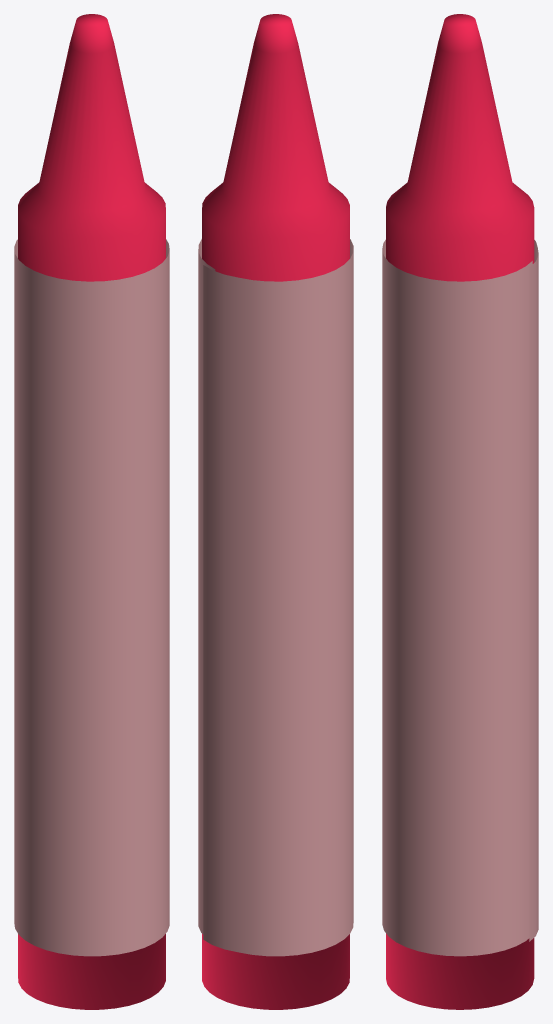
The picture shows the model from 3 angles, left to right: view 1: azimuth 30°, elevation 25°; view 2: azimuth 150°, elevation 25°; view 3: azimuth 270°, elevation 25°; orthographic projection.
Parts seen in each view (by area): view 1: Red_Wrapper; view 2: Red_Wrapper; view 3: Red_Wrapper.
Part boxes in pixels (box(x1,y1,x2,y2)): Red_Wrapper: box(14, 14, 169, 1009); Red_Wrapper: box(198, 14, 353, 1009); Red_Wrapper: box(382, 14, 538, 1009).
Bounding box in the file's own units: 0.0736 × 0.5 × 0.0741.
